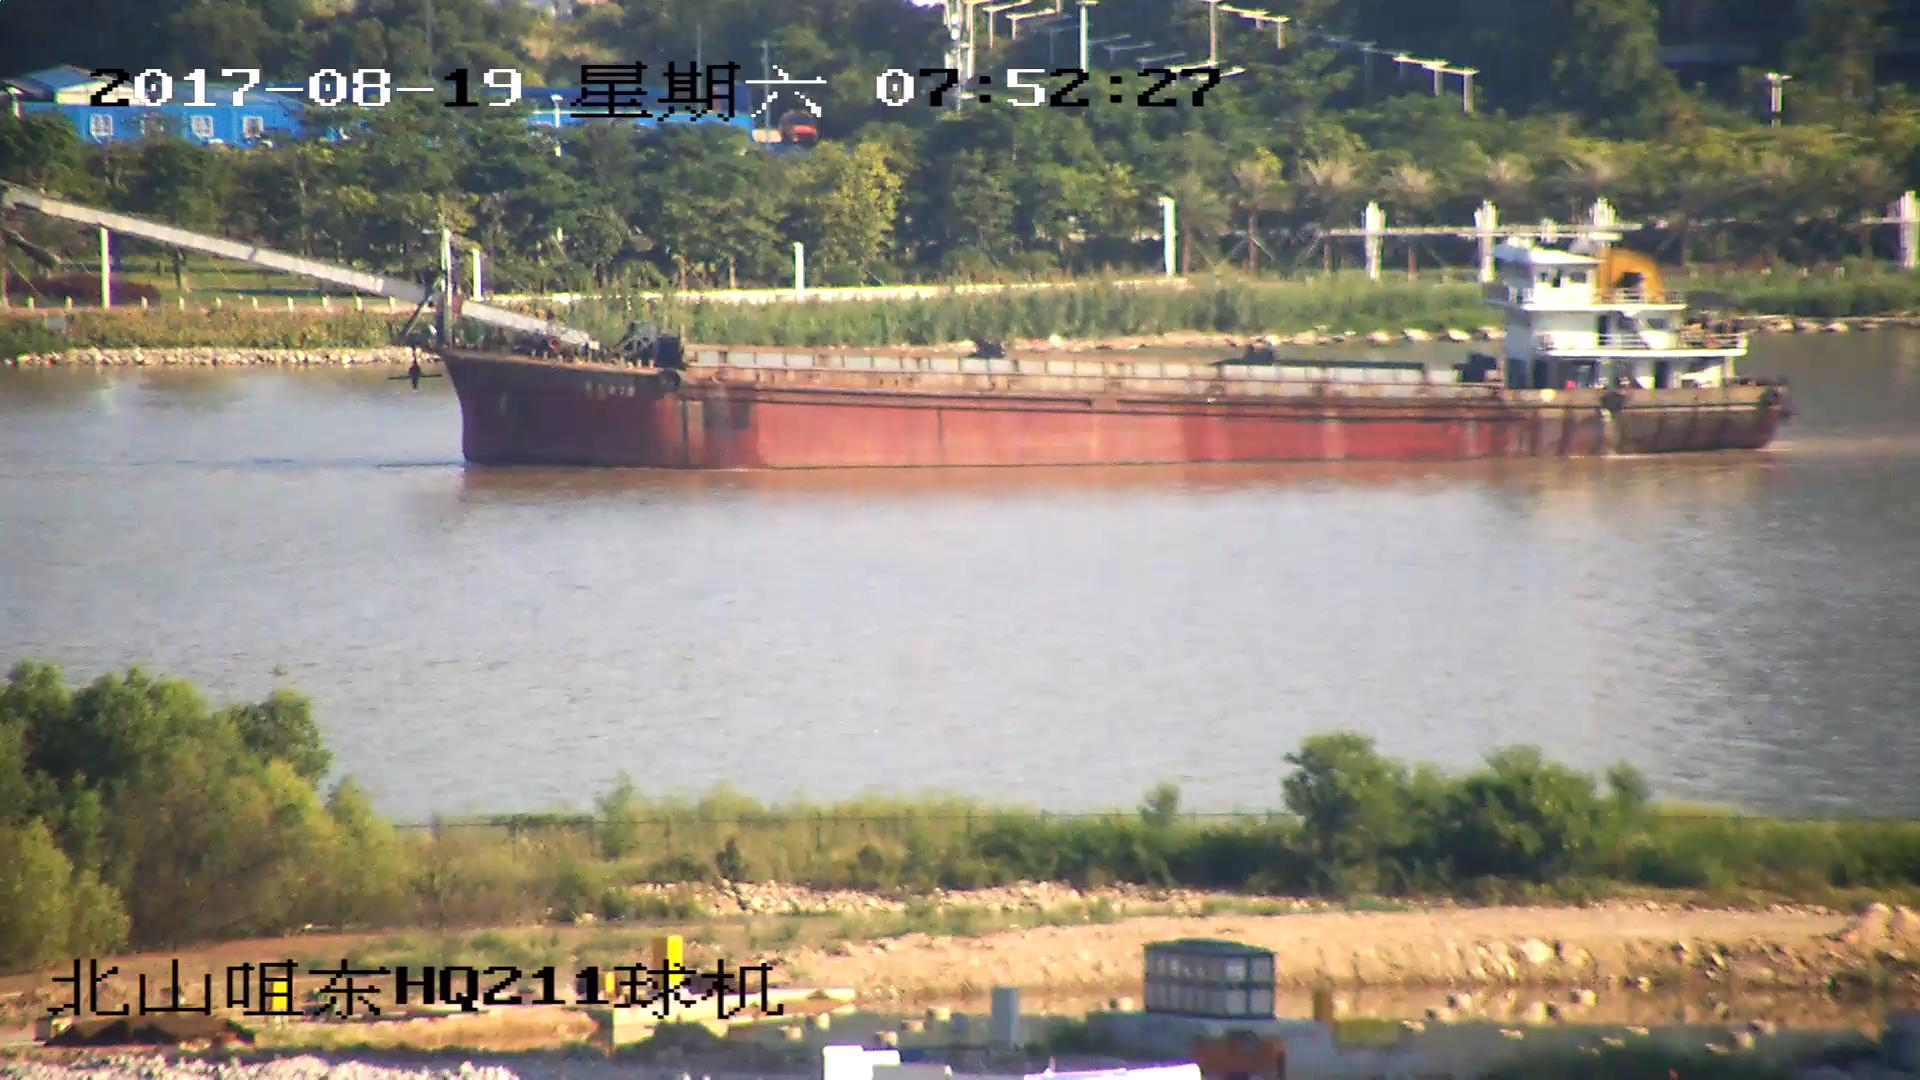bulk cargo carrier: (4, 181, 1794, 466)
